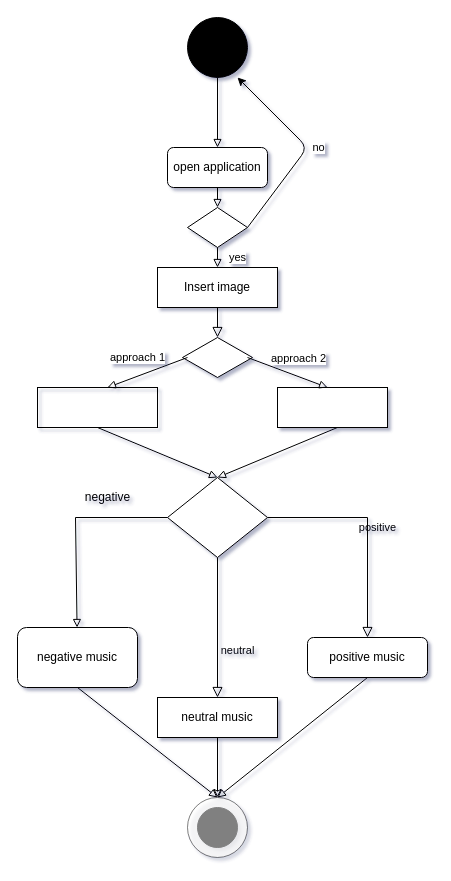
The diagram is 451 pixels wide and 881 high, and some of its shapes have lost their labels. Each missing label, with the box of its shape:
Image sentimemt: (36, 386, 158, 428)
Image to text sentiment: (276, 386, 388, 428)
